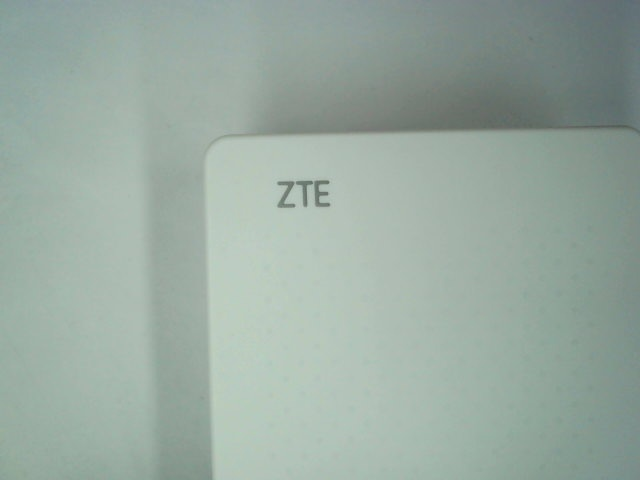AN_ZTE: (267, 174, 338, 210)
